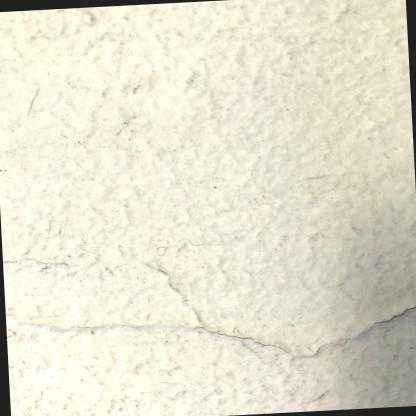crack: (14, 317, 299, 359), (356, 302, 416, 337)
